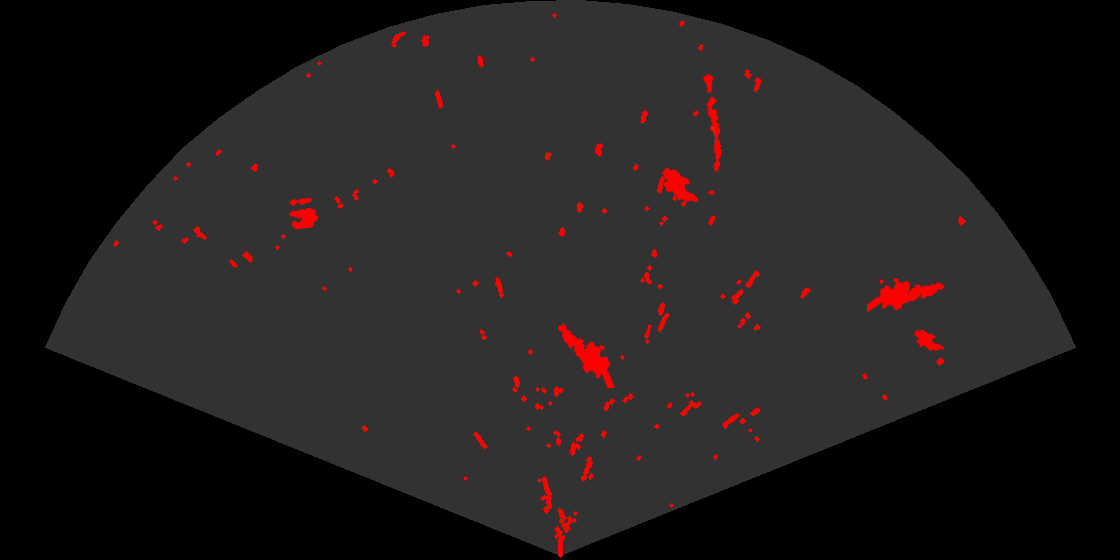AUV: (661, 166, 700, 204), (912, 328, 946, 353)
ball: (287, 196, 320, 231)
chain: (702, 71, 724, 173)
frogman: (556, 324, 616, 388), (867, 276, 946, 314)
